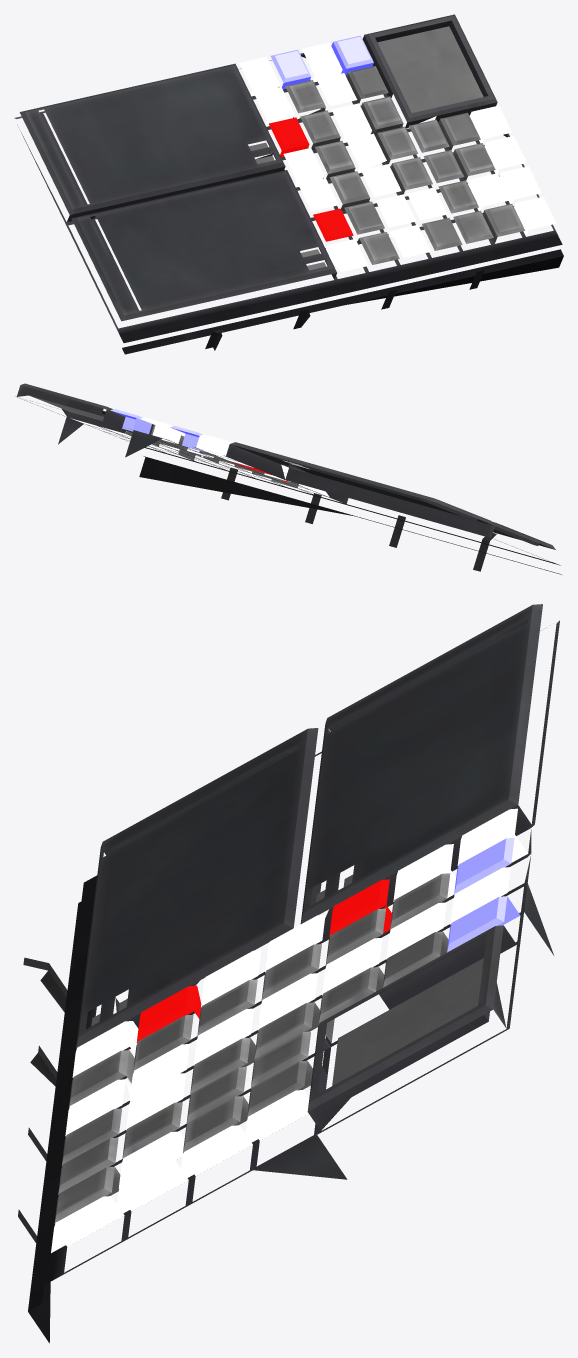
Rendered from hyperbouton.glb.
The picture shows the model from 3 angles, top to bottom: view 1: azimuth 30°, elevation 25°; view 2: azimuth 150°, elevation 25°; view 3: azimuth 270°, elevation 25°; orthographic projection. The views are drawn at different scales.
Visible parts, largest first — view 1: Side_Control_Panels_Control_Panels_0.001, Side_Control_Panels_Button_White_0.001, Side_Control_Panels_Button_Blue_0.001, Side_Control_Panels_Button_Red_0.001; view 2: Side_Control_Panels_Control_Panels_0.001, Side_Control_Panels_Button_White_0.001, Side_Control_Panels_Button_Blue_0.001; view 3: Side_Control_Panels_Control_Panels_0.001, Side_Control_Panels_Button_White_0.001, Side_Control_Panels_Button_Red_0.001, Side_Control_Panels_Button_Blue_0.001.
Boxes of the visible parts, x1=… form: Side_Control_Panels_Control_Panels_0.001: x1=14, y1=14, x2=563, y2=354; Side_Control_Panels_Button_White_0.001: x1=239, y1=42, x2=556, y2=271; Side_Control_Panels_Button_Blue_0.001: x1=270, y1=35, x2=373, y2=89; Side_Control_Panels_Button_Red_0.001: x1=269, y1=117, x2=353, y2=241; Side_Control_Panels_Control_Panels_0.001: x1=15, y1=383, x2=561, y2=574; Side_Control_Panels_Button_White_0.001: x1=100, y1=417, x2=328, y2=496; Side_Control_Panels_Button_Blue_0.001: x1=110, y1=409, x2=206, y2=452; Side_Control_Panels_Control_Panels_0.001: x1=18, y1=604, x2=559, y2=1343; Side_Control_Panels_Button_White_0.001: x1=51, y1=808, x2=527, y2=1252; Side_Control_Panels_Button_Red_0.001: x1=136, y1=879, x2=391, y2=1042; Side_Control_Panels_Button_Blue_0.001: x1=447, y1=838, x2=520, y2=952.
Bounding box in the file's own units: 0.6873 × 0.2663 × 0.3702.
4 materials, 1 textured.
